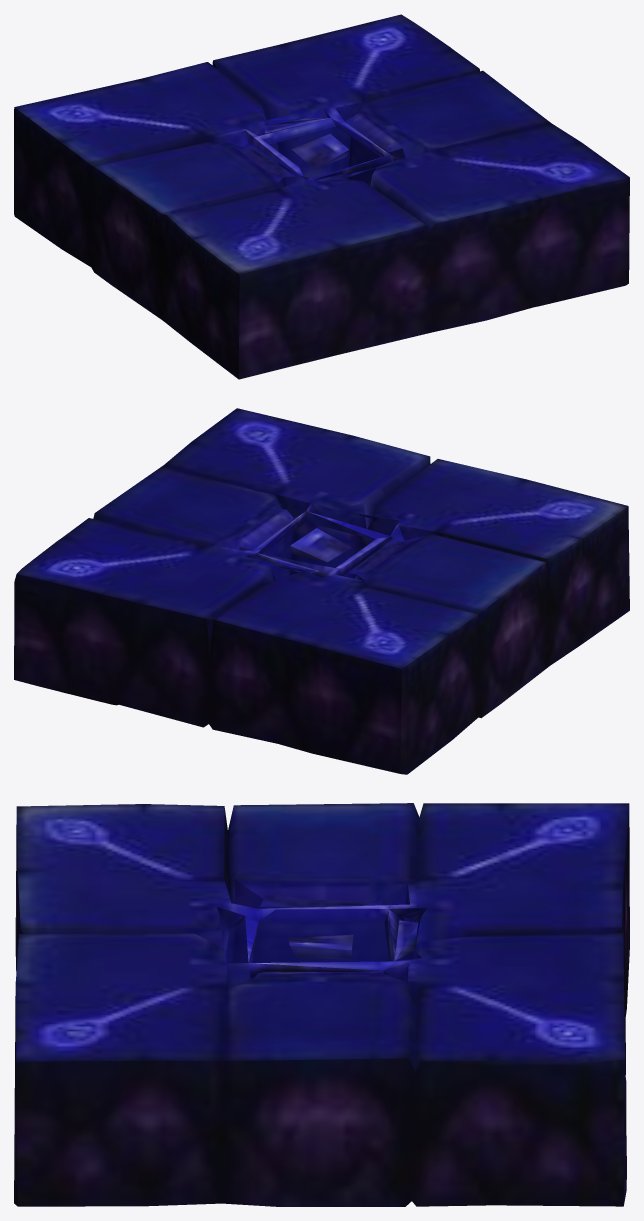
Rendered from b_abimes_sol_1.glb.
The picture shows the model from 3 angles, top to bottom: view 1: azimuth 30°, elevation 25°; view 2: azimuth 150°, elevation 25°; view 3: azimuth 270°, elevation 25°; orthographic projection. The views are drawn at different scales.
Visible parts, largest first — view 1: geometry_0; view 2: geometry_0; view 3: geometry_0.
Boxes of the visible parts, x1,y1,x2,y2 form: geometry_0: (14,14,629,379); geometry_0: (14,408,629,774); geometry_0: (14,803,629,1206).
Bounding box in the file's own units: 1 × 0.266 × 1.
Materials: 1 (1 with a texture image).
